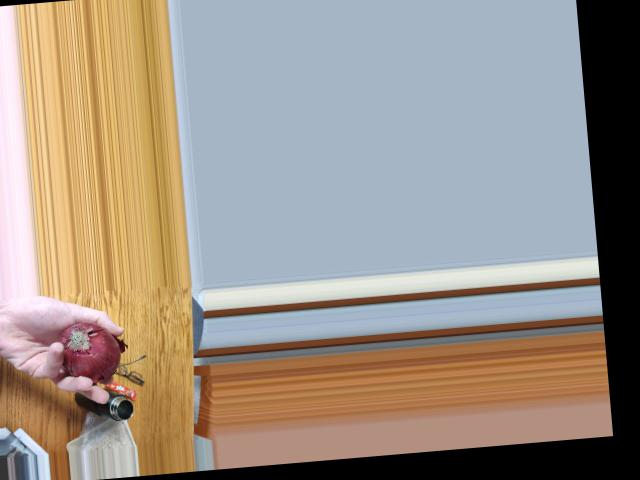onion: (56, 320, 120, 379)
